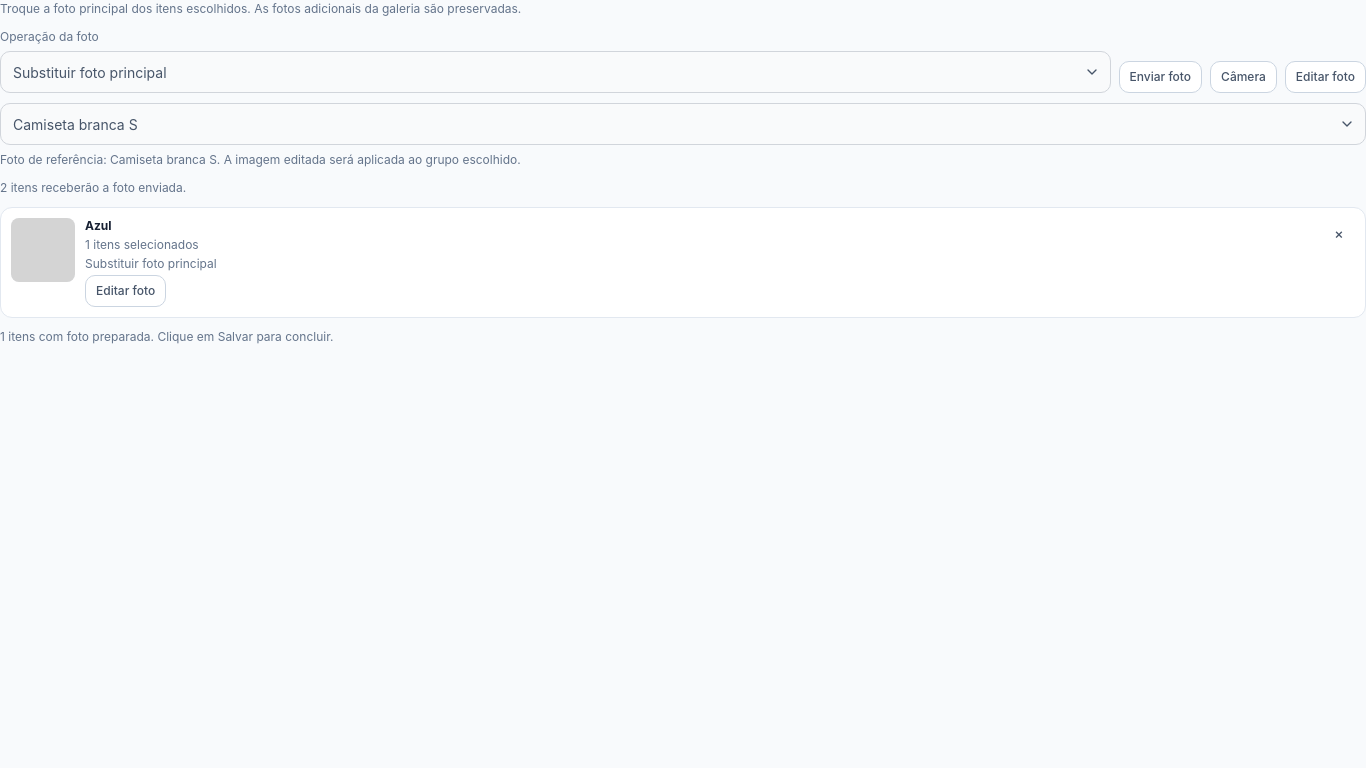
Test case: Bulk photo editing with the shared photo assistant › retains drafts and allows retry if the saved original cannot be loaded
Click the 1st button "Editar foto" at (1325, 77), box [1285,61,1365,93]
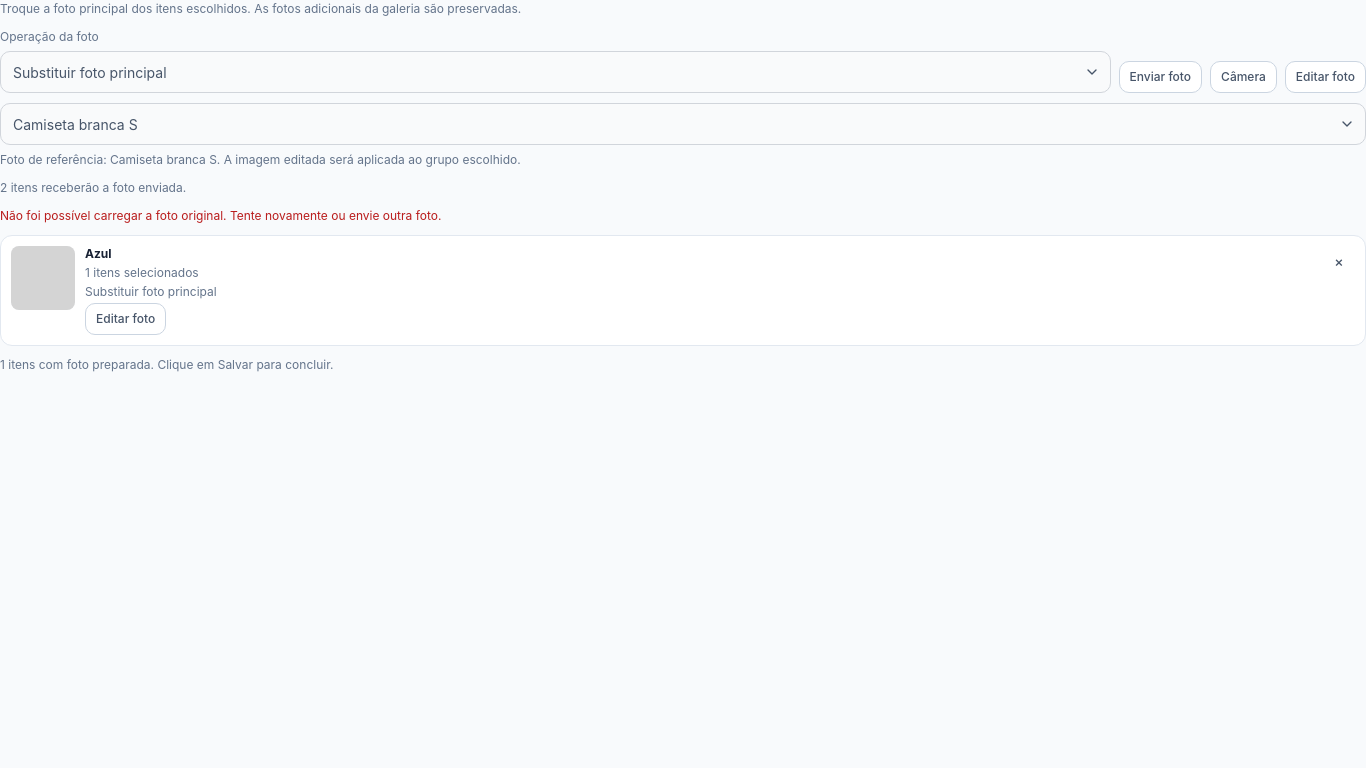
Click the 1st button "Editar foto" at (1325, 77), box [1285,61,1365,93]
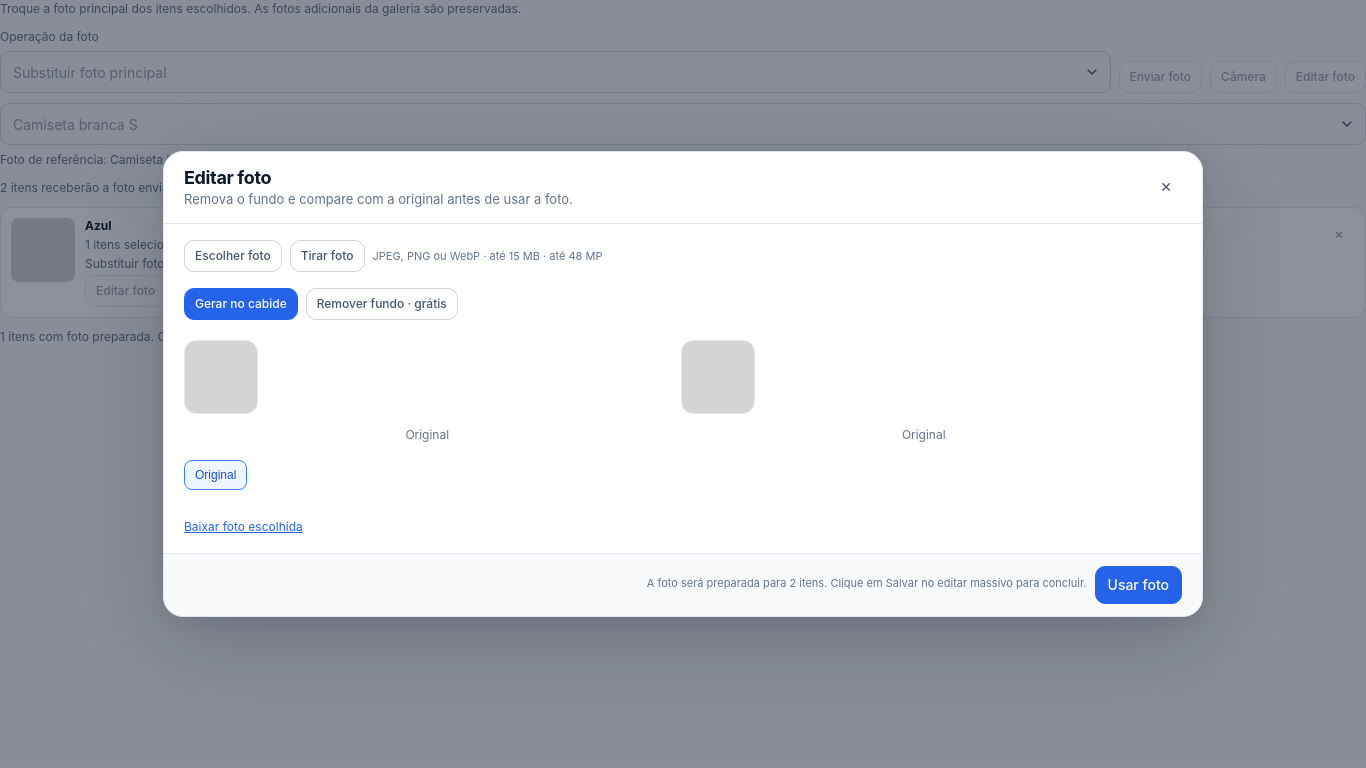
Check: the dialog is shown, box [163,151,1203,617]
